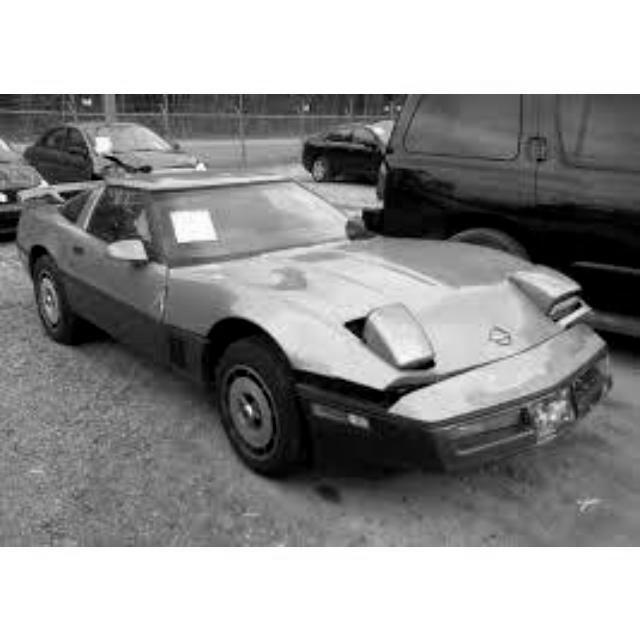bonnet-dent: (221, 252, 412, 307)
